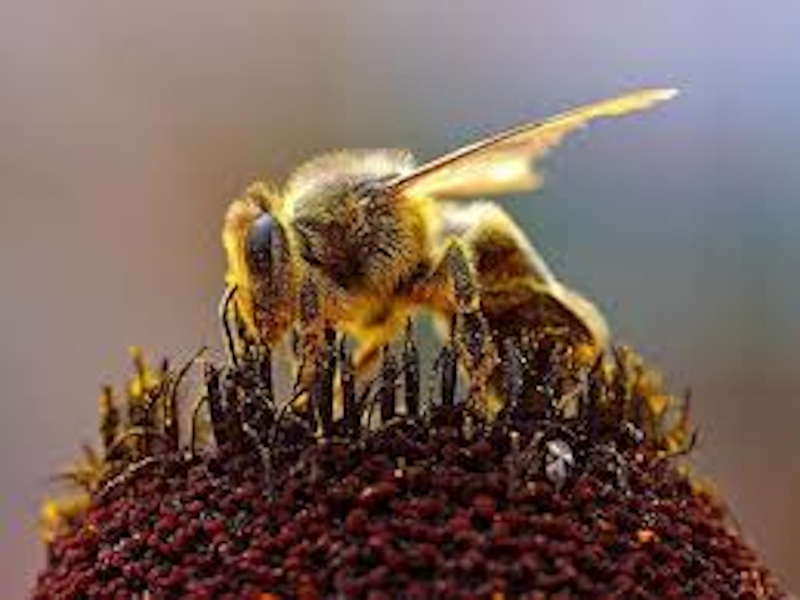abeja: (186, 51, 750, 477)
